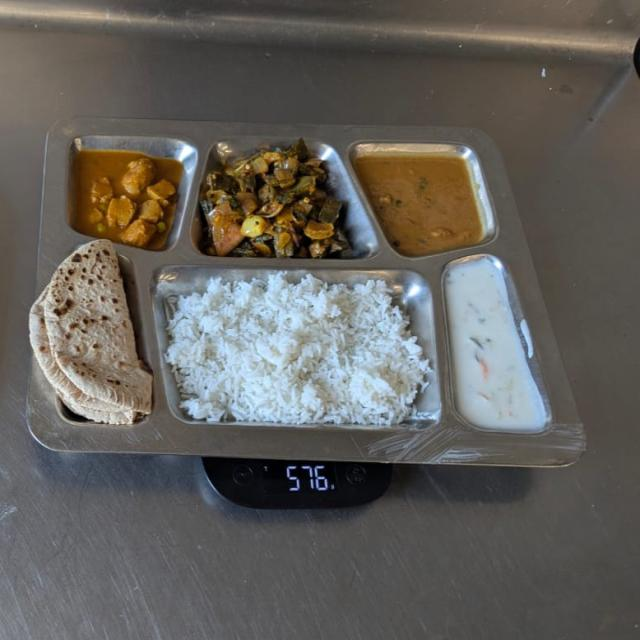Bhindi Masala: (199, 144, 353, 262)
Chapati: (27, 236, 156, 428)
Dal: (354, 150, 493, 256)
Raita: (448, 256, 547, 437)
Soya Matar: (69, 144, 183, 253)
White Rice: (166, 268, 434, 434)
